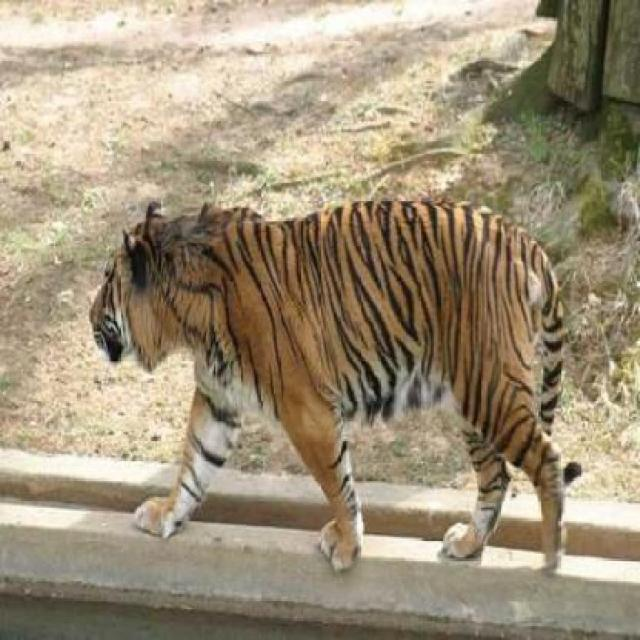Tiger: (66, 174, 594, 589)
